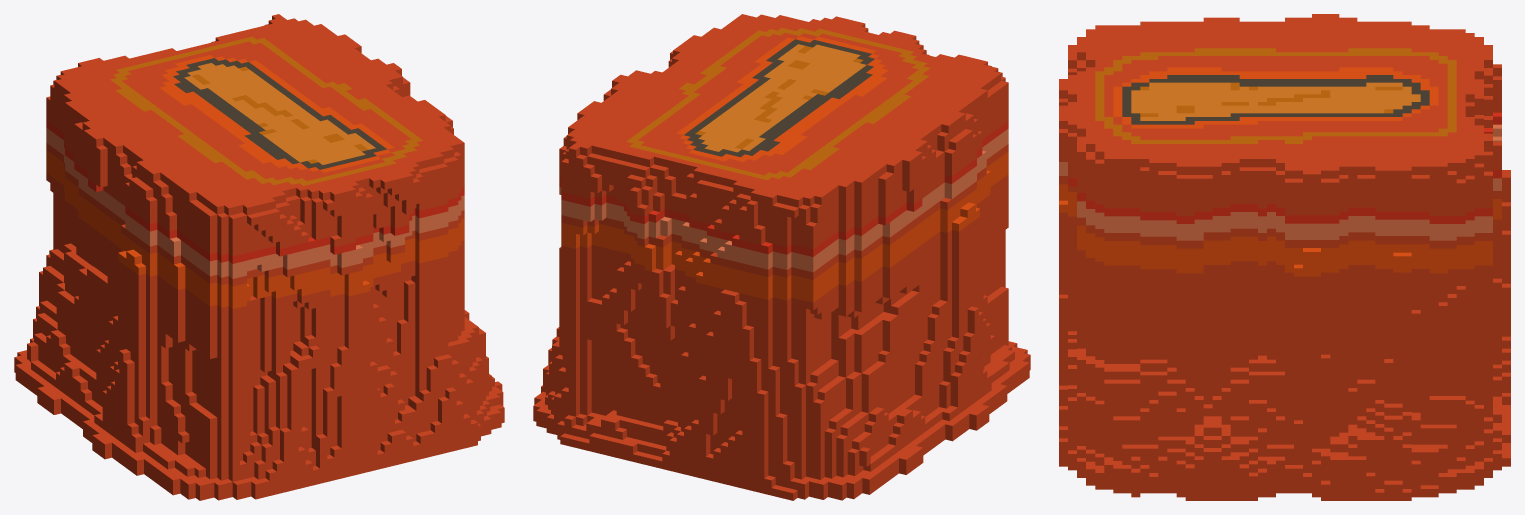
The model's file is western8-3.obj.
3 views of the same model, side by side, from view 1: azimuth 30°, elevation 25°; view 2: azimuth 150°, elevation 25°; view 3: azimuth 270°, elevation 25° (orthographic). The views are drawn at different scales.
Bounding box in the file's own units: 5 × 3.8 × 5.
Materials: 1 (1 with a texture image).
